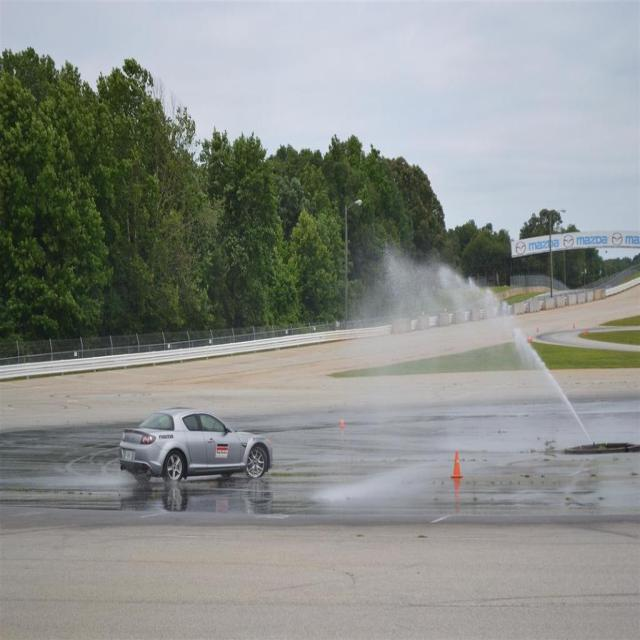car: (118, 399, 274, 484)
